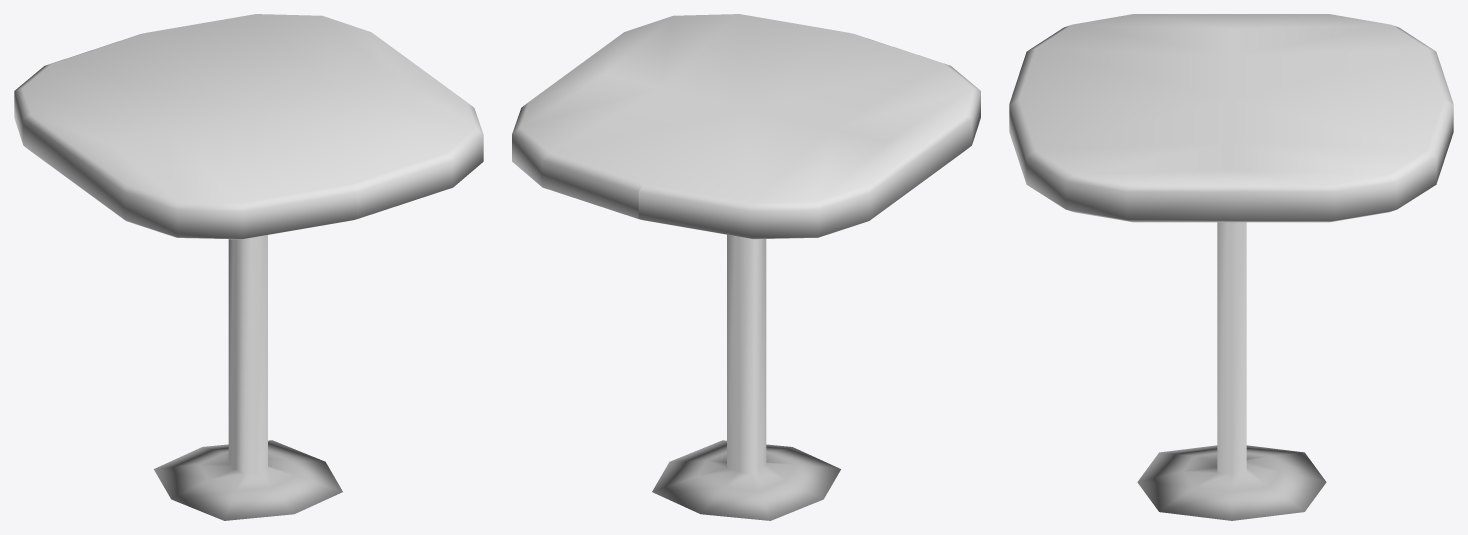
The model's file is GAMEJAMHERO - Prop(Dining Table).fbx.
3 views of the same model, side by side, from view 1: azimuth 30°, elevation 25°; view 2: azimuth 150°, elevation 25°; view 3: azimuth 270°, elevation 25° (orthographic). The views are drawn at different scales.
Parts seen in each view (by area): view 1: Plane.009; view 2: Plane.009; view 3: Plane.009.
Part boxes in pixels (x1,y1,x2,y2): Plane.009: (14,14,483,520); Plane.009: (512,14,980,520); Plane.009: (1009,14,1453,520).
Size of the model in its own units: 105 by 107 by 112.
Materials: 1 (1 with a texture image).
